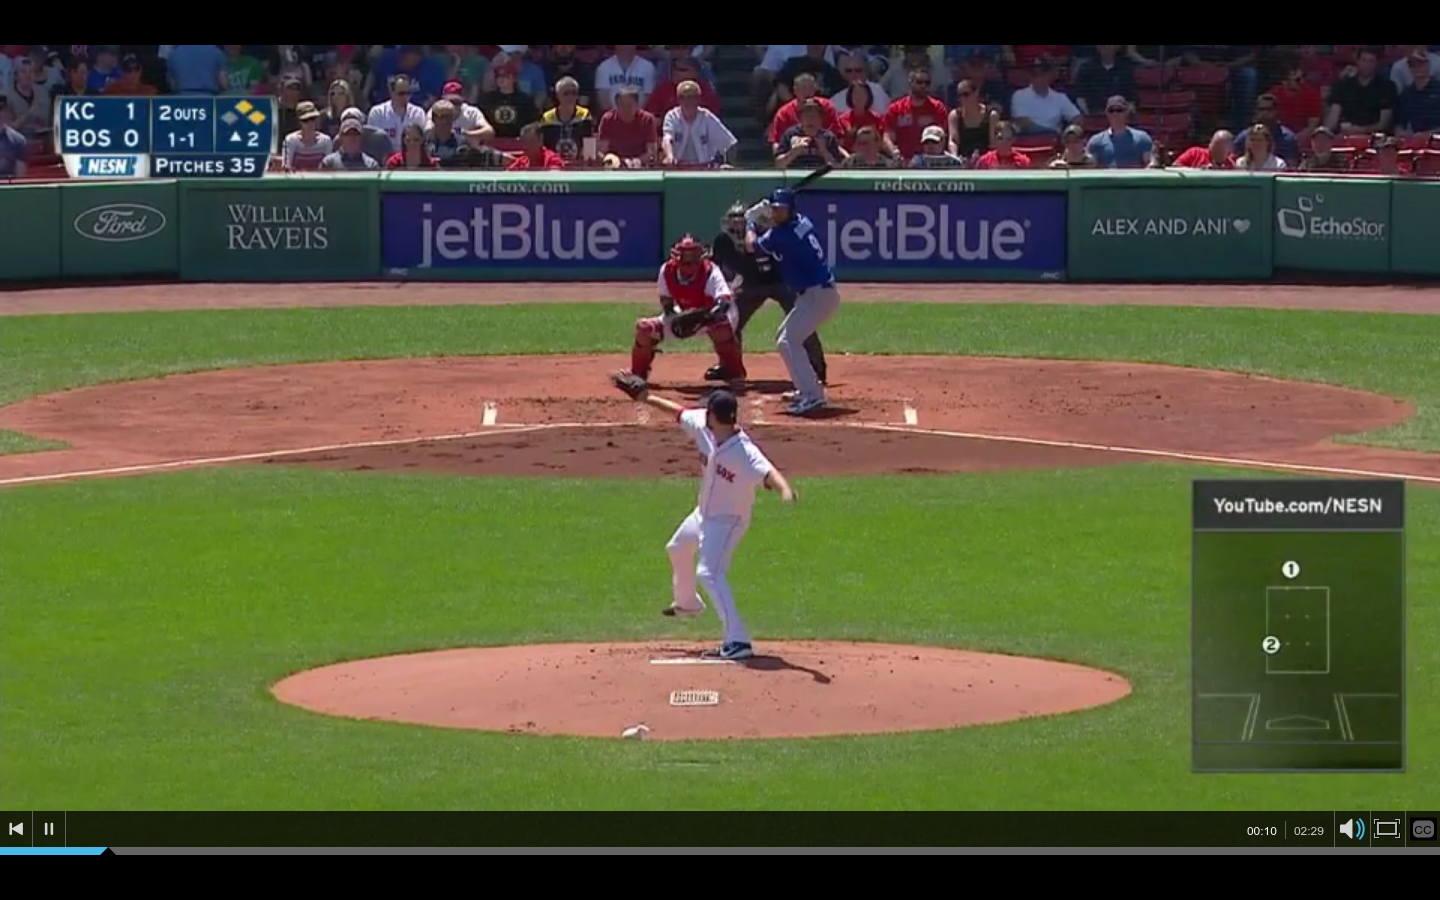baseball bat: (772, 157, 833, 203)
baseball player: (613, 371, 798, 663), (732, 192, 844, 419), (624, 236, 747, 385)
